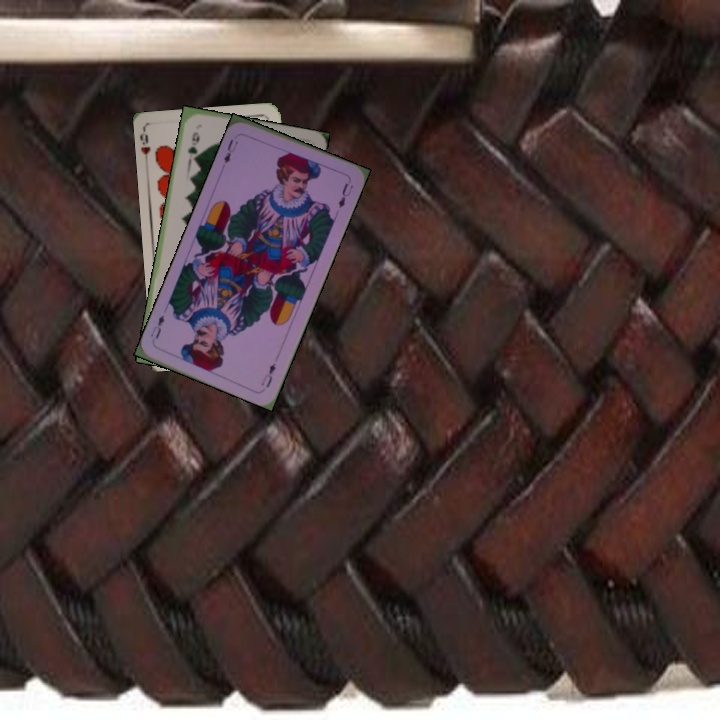EU: (257, 359, 278, 390), (220, 135, 240, 166)
G9: (184, 128, 202, 157)
H9: (137, 131, 153, 157)
